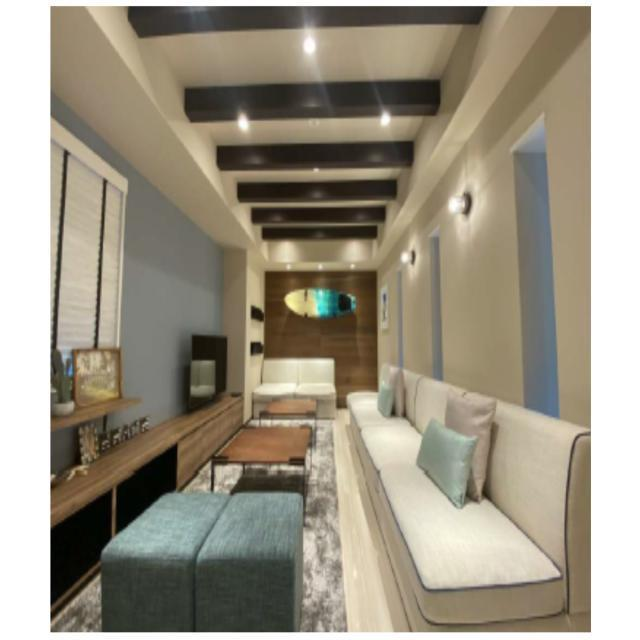couch: (346, 364, 591, 632), (253, 359, 336, 419)
